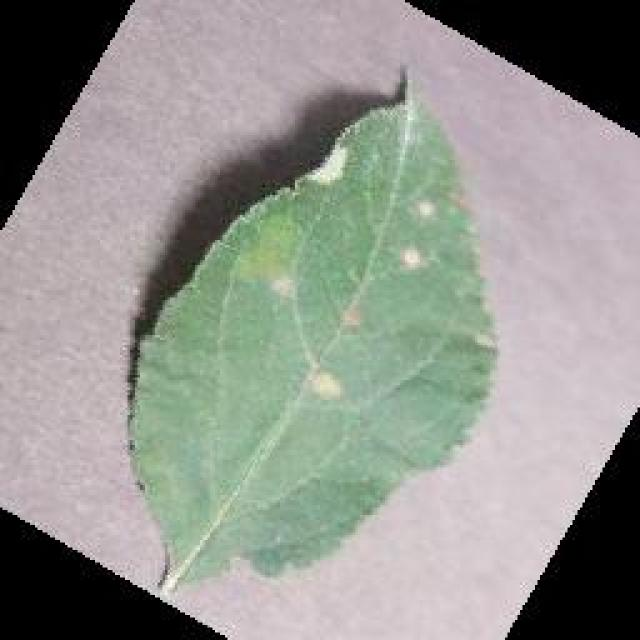apple rust disease: (122, 60, 502, 595)
